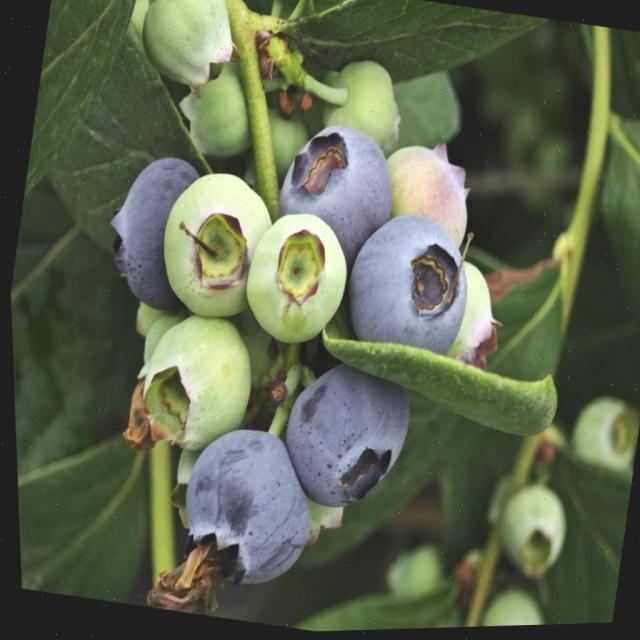RipeBlueBerry: (163, 428, 322, 598), (334, 212, 479, 368), (273, 364, 416, 520)
UnripeBlueBerry: (113, 299, 263, 466), (226, 206, 356, 355), (132, 0, 245, 92)
